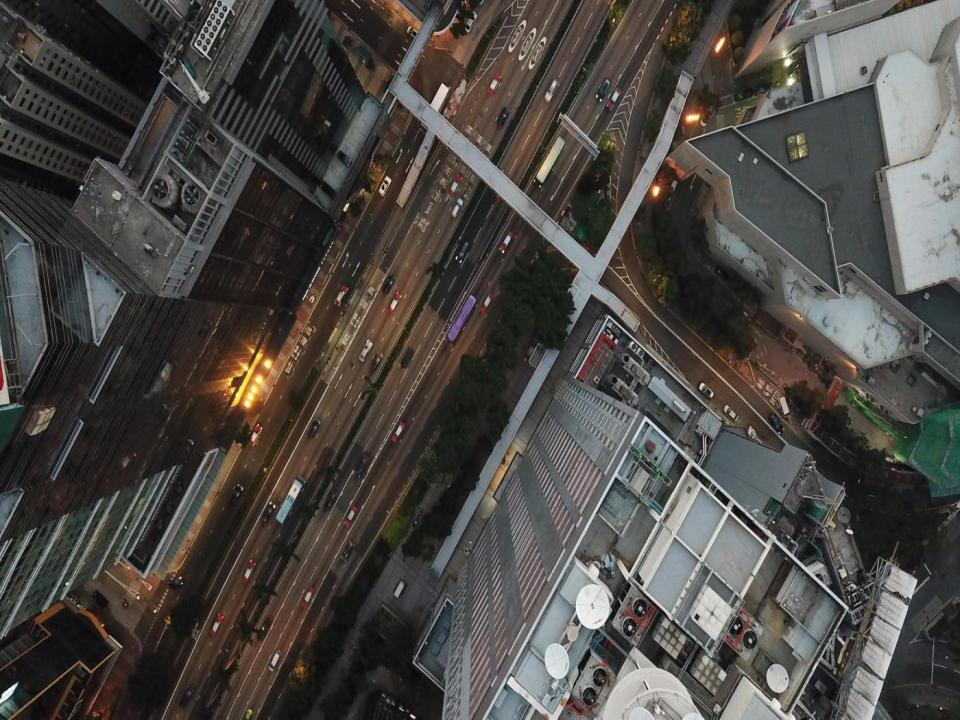bus: (534, 136, 565, 188), (276, 475, 305, 524), (447, 294, 476, 341)
car: (226, 484, 244, 507), (179, 684, 195, 708), (340, 539, 355, 563), (354, 454, 369, 478), (487, 72, 502, 96), (248, 424, 263, 447), (495, 107, 510, 130), (606, 87, 621, 110), (387, 292, 402, 314), (498, 231, 513, 253), (243, 558, 256, 583), (359, 340, 373, 363), (545, 78, 558, 102), (479, 292, 493, 314), (164, 606, 180, 625), (261, 502, 276, 522), (210, 613, 223, 636), (392, 421, 405, 444), (449, 173, 462, 196), (334, 285, 348, 306), (268, 650, 281, 672), (324, 490, 337, 512), (401, 346, 414, 368), (382, 274, 396, 294), (336, 150, 352, 167), (344, 506, 357, 526), (302, 587, 314, 608), (370, 351, 382, 372), (167, 576, 183, 588), (242, 708, 252, 719)
van: (596, 77, 611, 101), (91, 590, 109, 608), (378, 176, 392, 198), (455, 241, 469, 263), (451, 198, 464, 219), (464, 11, 477, 32), (406, 27, 424, 41), (308, 419, 320, 438)
